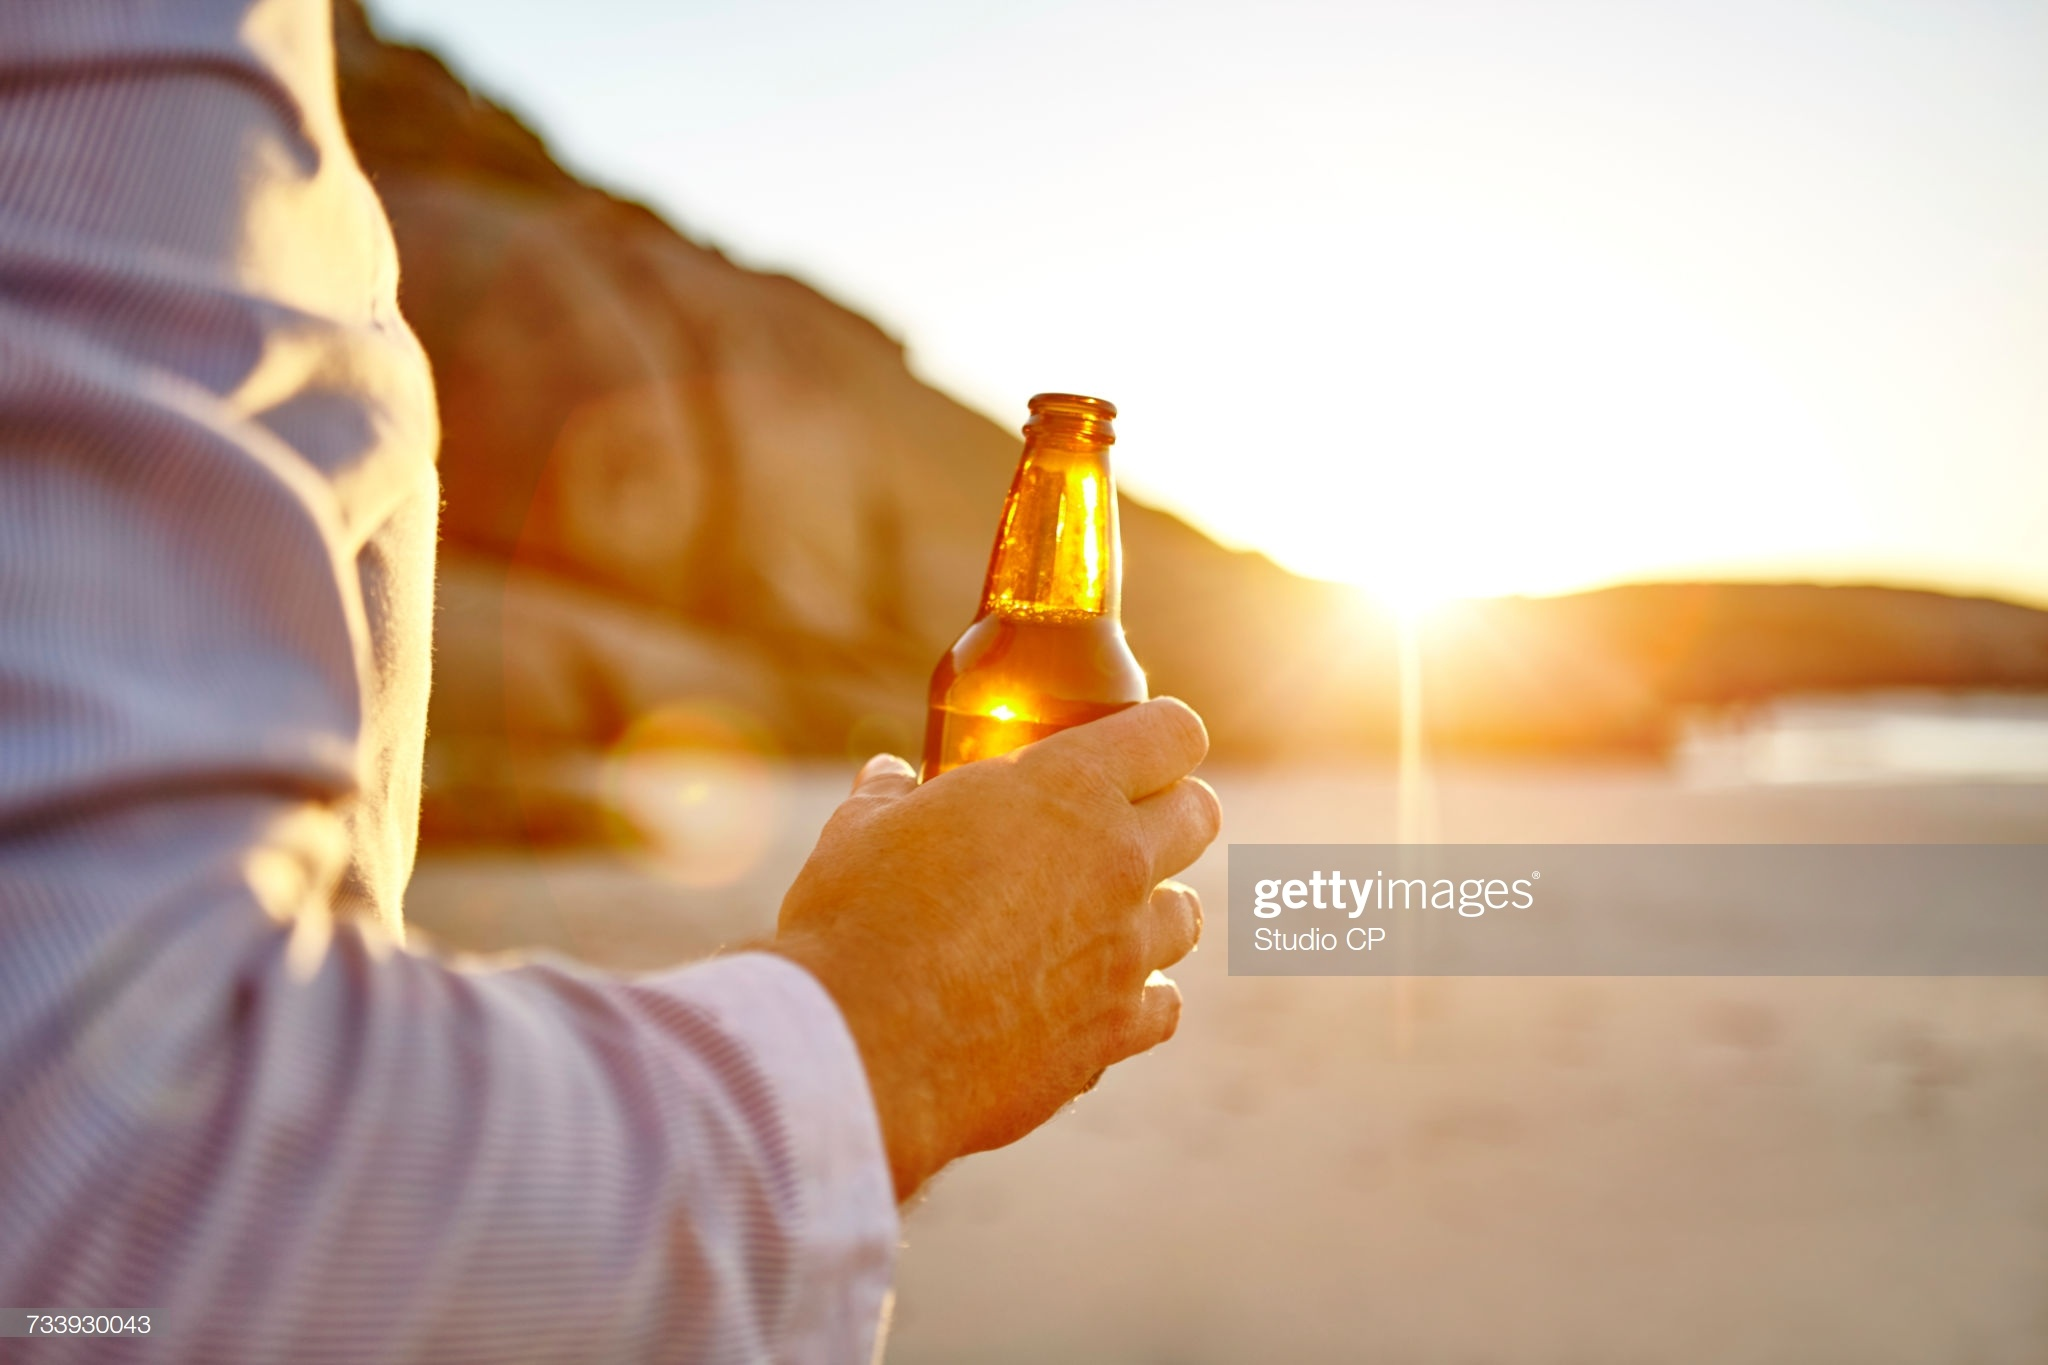beerBottle: (917, 401, 1127, 861)
